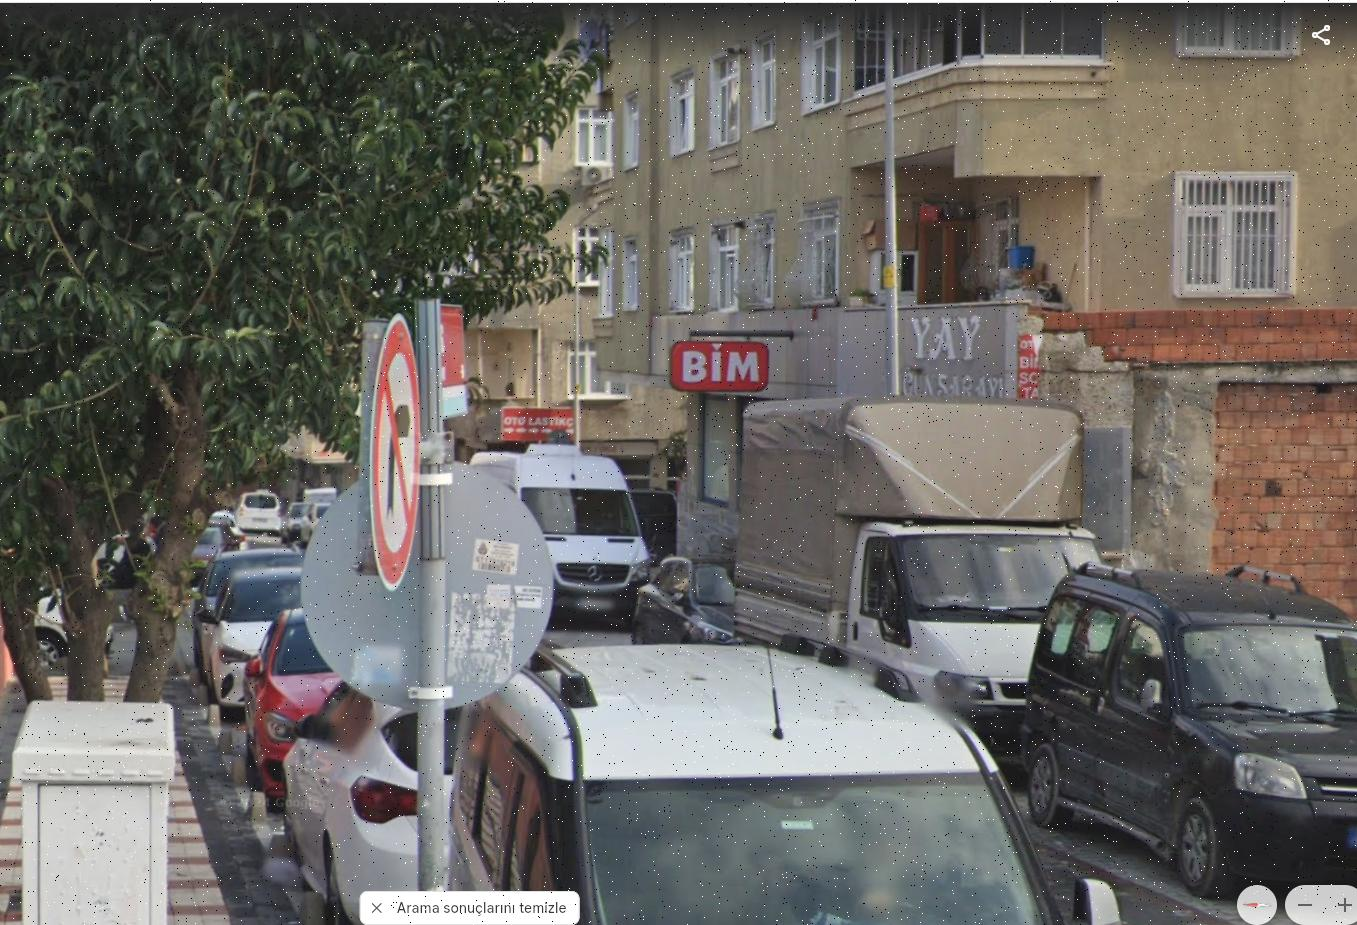rightturnsareforbidden: (368, 315, 421, 581)
